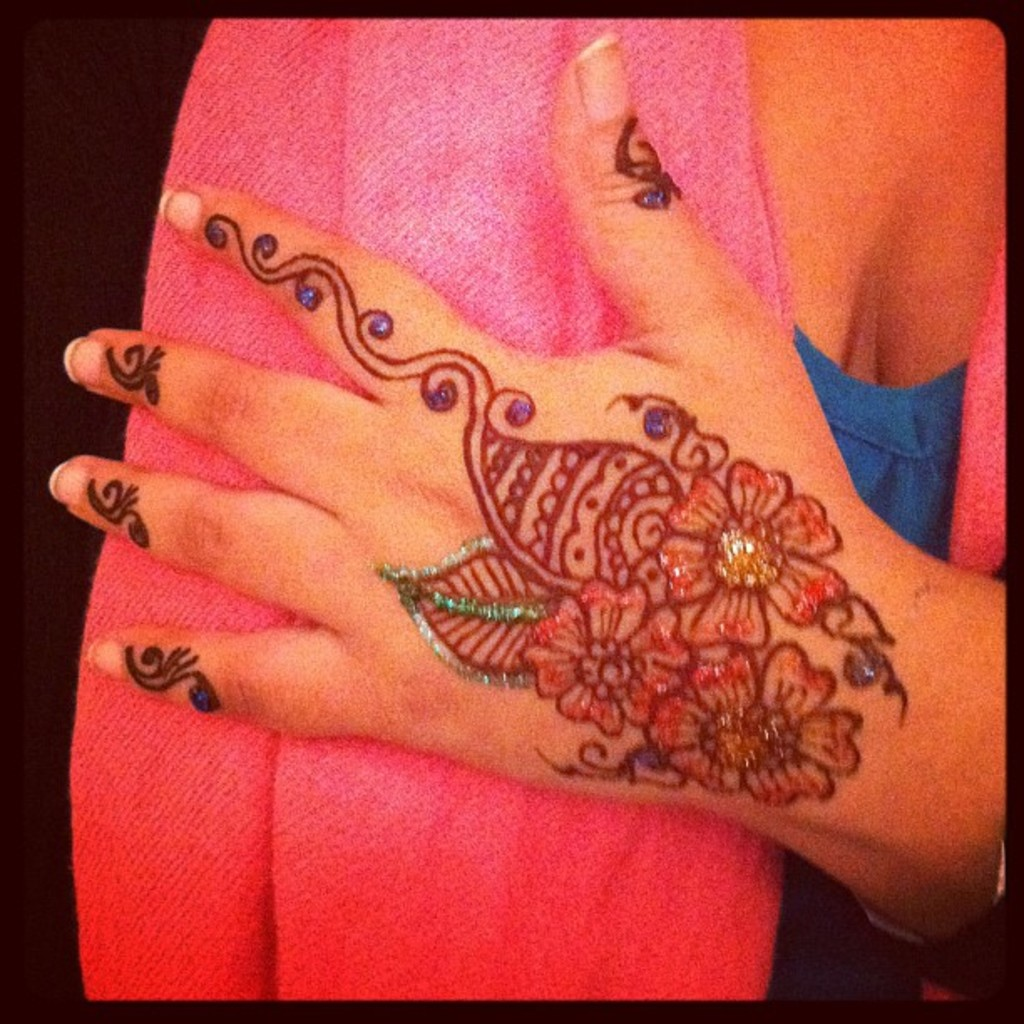Person: (48, 16, 1007, 1000)
